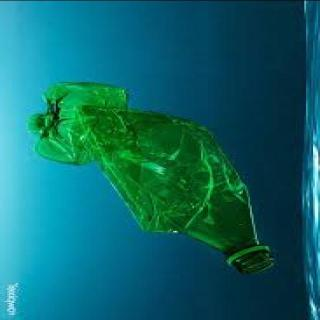Anorganik: (25, 77, 281, 275)
